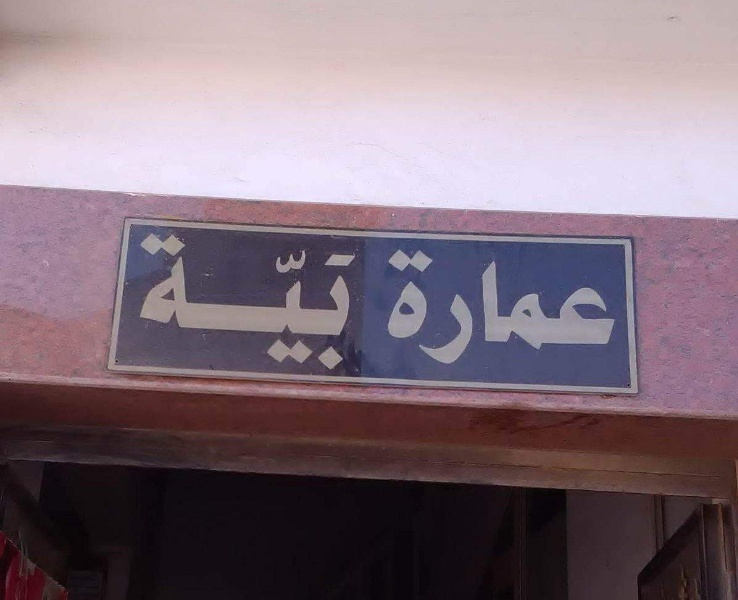text: (145, 231, 160, 372), (161, 231, 176, 372), (177, 231, 192, 372), (193, 231, 208, 372), (209, 231, 224, 372), (225, 231, 240, 372), (241, 231, 256, 372), (257, 231, 272, 372), (273, 231, 288, 372), (289, 231, 304, 372), (305, 231, 320, 372), (321, 231, 336, 372), (337, 231, 352, 372), (401, 249, 416, 365), (417, 249, 432, 365), (433, 249, 448, 365), (449, 249, 464, 365), (465, 249, 480, 365), (481, 249, 496, 365), (497, 249, 512, 365), (513, 249, 528, 365), (529, 249, 544, 365), (545, 249, 560, 365), (561, 249, 576, 365), (577, 249, 592, 365), (593, 249, 608, 365), (386, 249, 400, 365), (609, 249, 619, 365), (141, 231, 144, 372), (353, 231, 356, 372)
